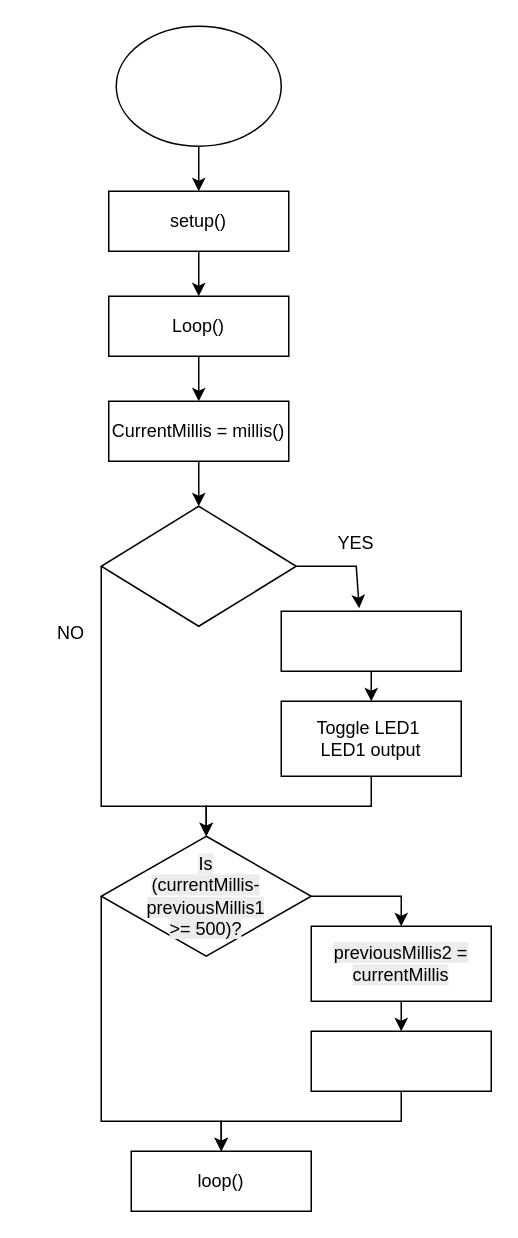
This 518x1238 diagram has some shape labels left out. The box of each missing label's shape, as (x1, y1, x2, y2) in pixels:
Is (currentMillis- previousMillis1 >= 1000)?: (100, 505, 296, 626)
previousMillis1 = currentMillis: (280, 610, 461, 671)
Start: (115, 25, 281, 146)
Toggle LED2 LED2 output: (310, 1030, 491, 1091)
